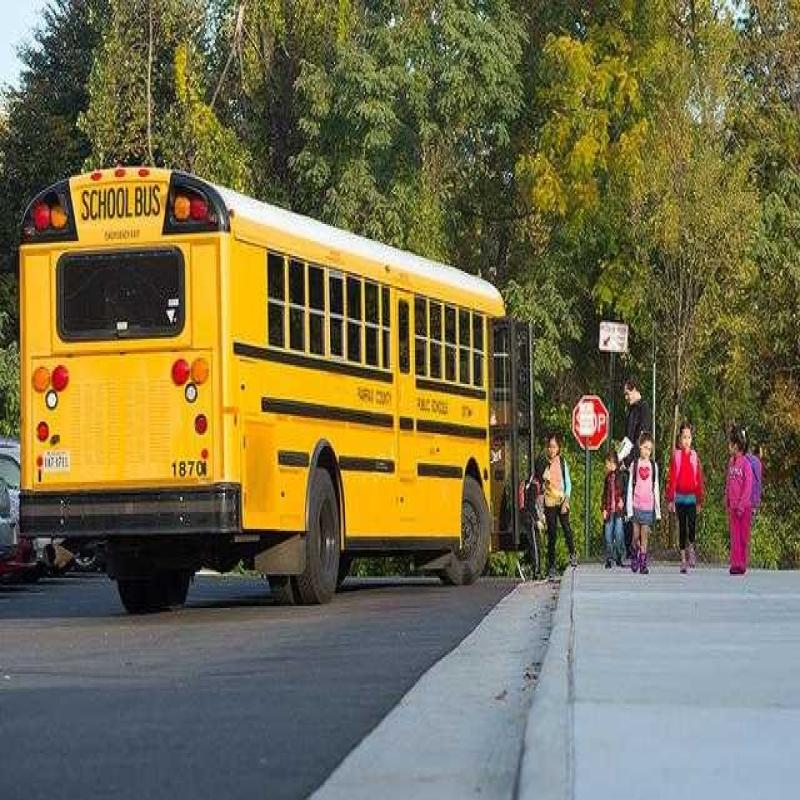bus: (11, 154, 530, 650)
